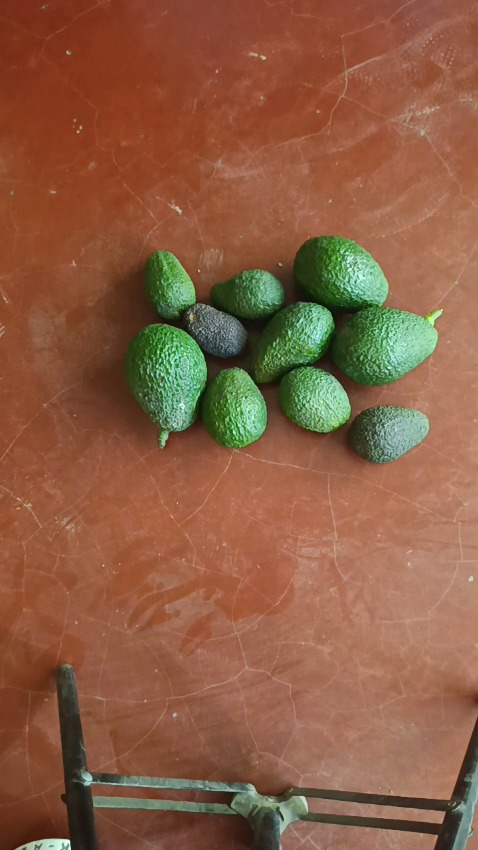Primera: (331, 305, 439, 385), (126, 326, 205, 427)
Segunda: (292, 235, 388, 313), (250, 302, 335, 384)
Tercera: (201, 367, 267, 447), (277, 365, 351, 432), (346, 405, 430, 463), (179, 303, 248, 360), (210, 269, 285, 321), (144, 250, 196, 321)
